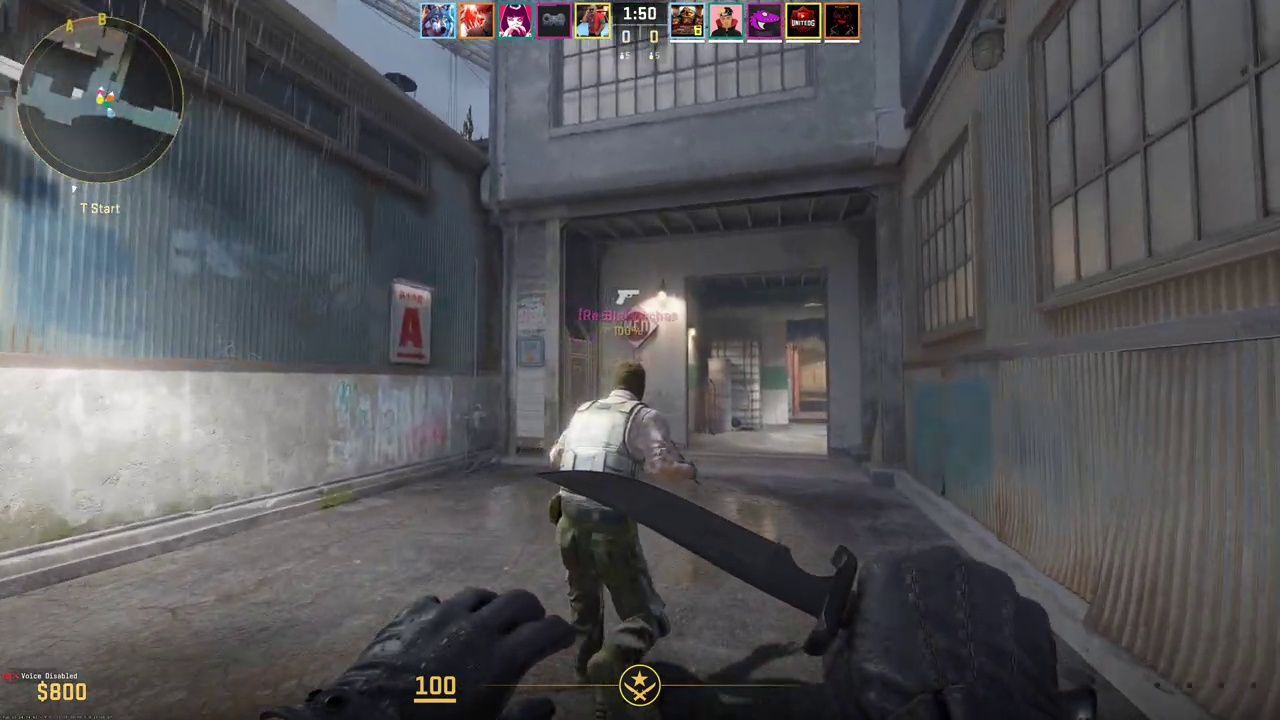Terrorist: (558, 363, 670, 685)
